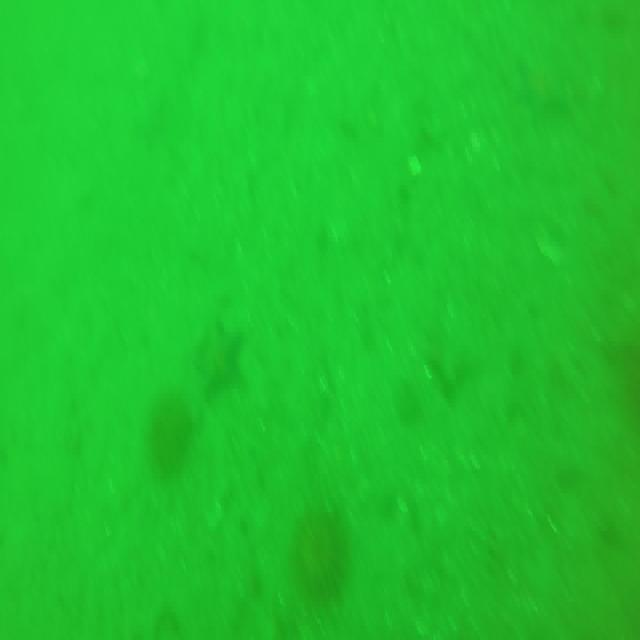echinus: (286, 502, 350, 608), (146, 391, 192, 481)
starfish: (192, 316, 243, 398)
